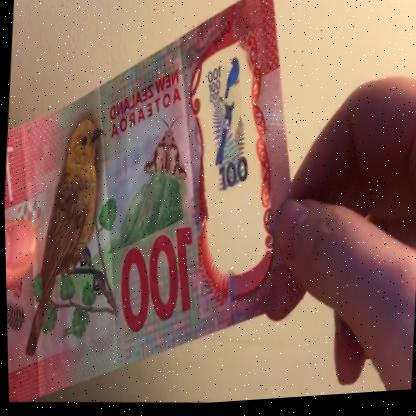100B: (192, 54, 258, 261)
